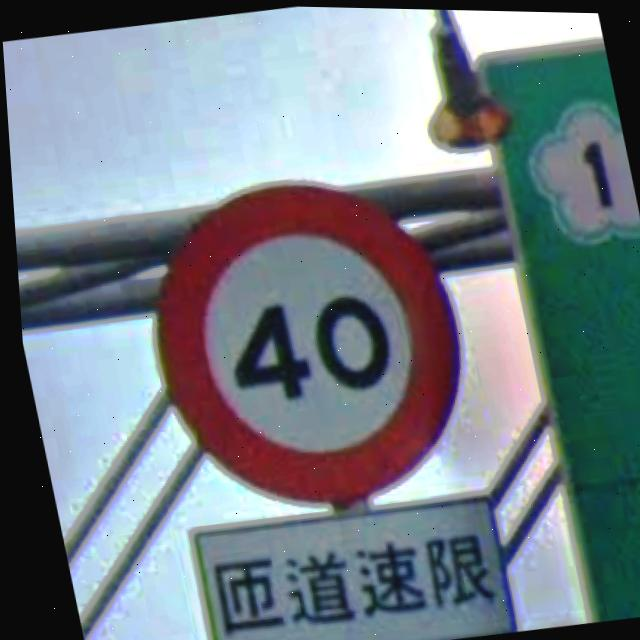max40: (116, 153, 490, 528)
